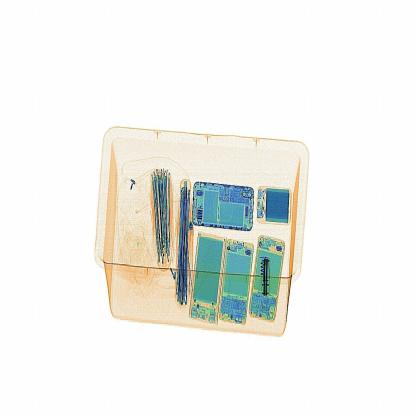scissors: (256, 252, 280, 307)
